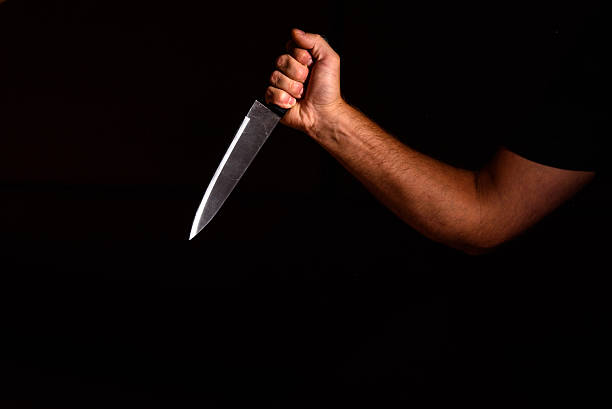knife: (187, 97, 284, 243)
